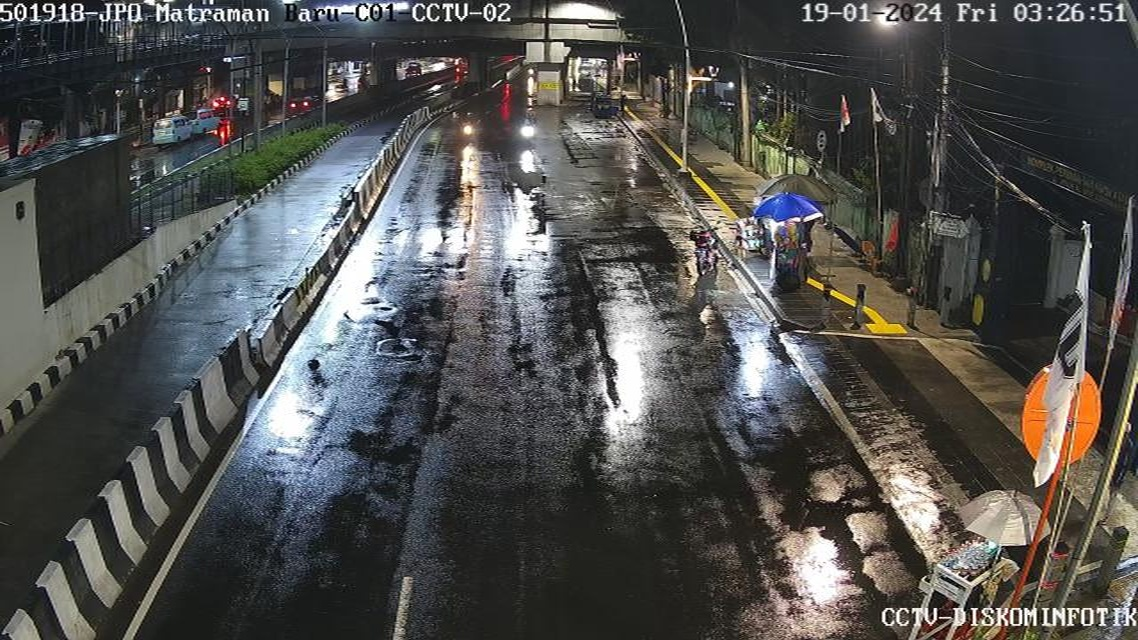Gerobak: (870, 542, 1038, 638), (768, 217, 811, 290)
